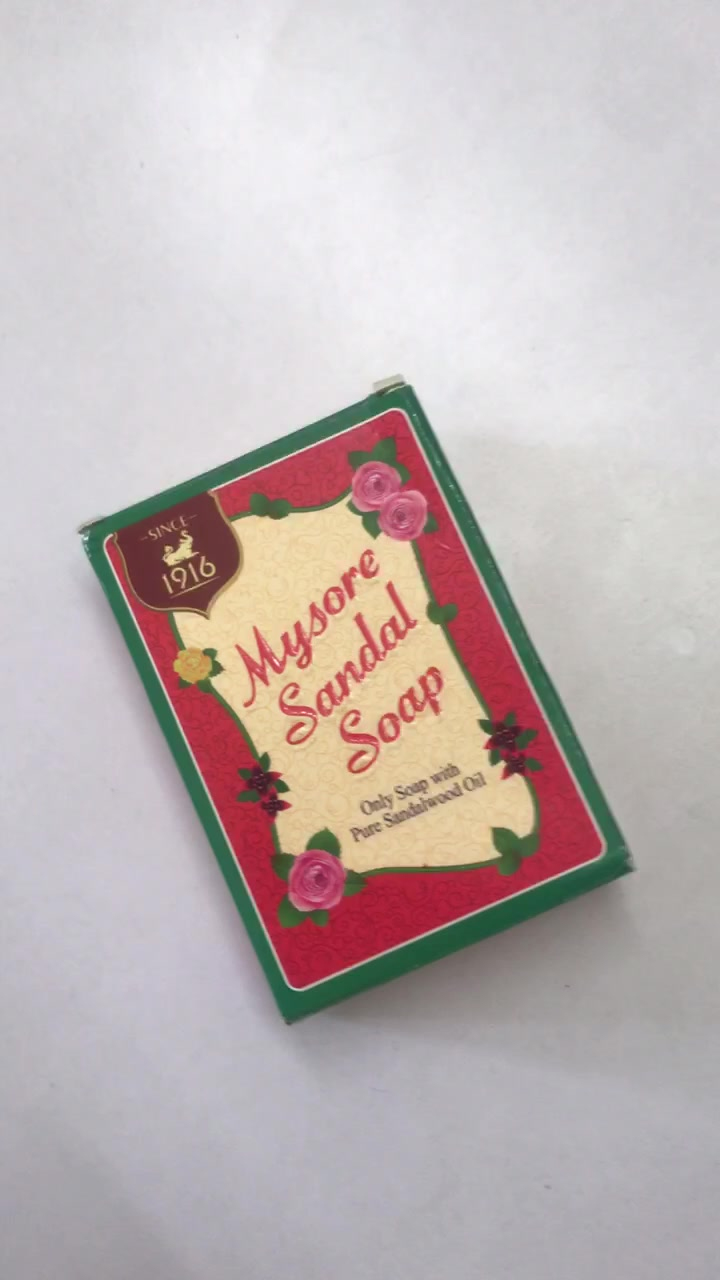mysore sandal soap: (74, 375, 631, 1028)
